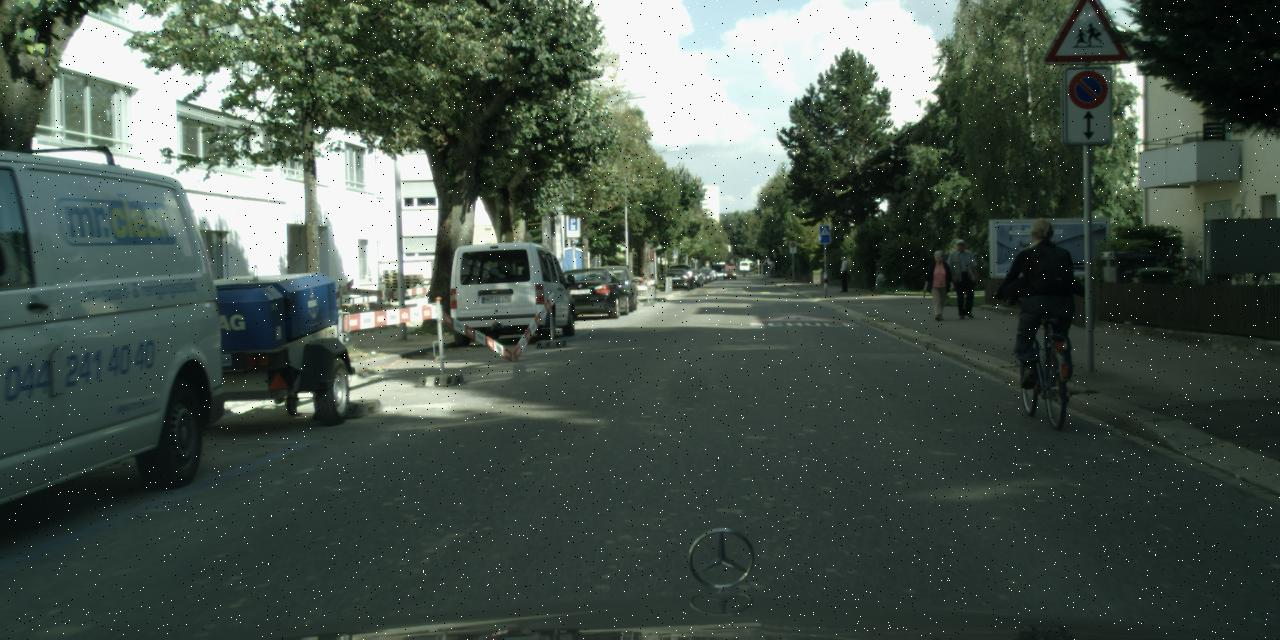ped: (1009, 217, 1076, 382), (947, 238, 977, 316), (924, 250, 952, 320), (836, 256, 850, 290)
